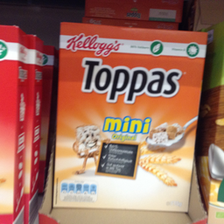cereal: (51, 22, 210, 213)
